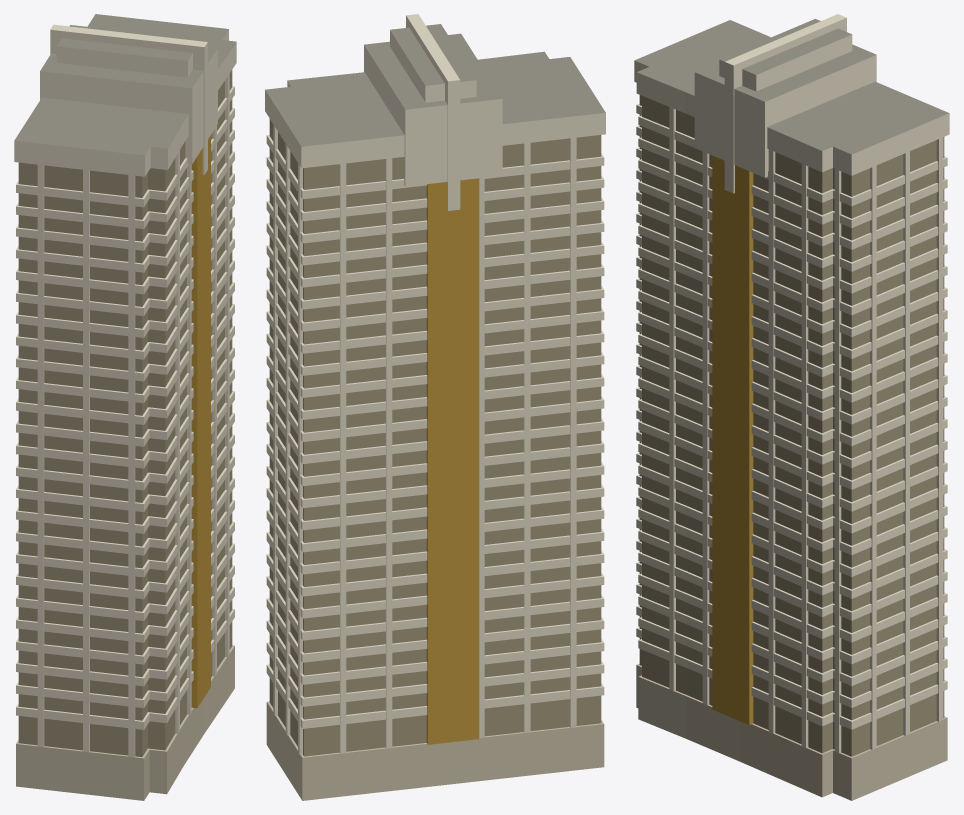
File: the_signature_at_mgm_g_w95223224.glb
3 views of the same model, side by side, from view 1: azimuth 30°, elevation 25°; view 2: azimuth 150°, elevation 25°; view 3: azimuth 270°, elevation 25° (orthographic).
Parts seen in each view (by area): view 1: Tower; view 2: Tower; view 3: Tower.
Part boxes in pixels (left/top/right/bottom): Tower: left=14, top=14, right=236, bottom=800; Tower: left=265, top=14, right=605, bottom=800; Tower: left=634, top=14, right=949, bottom=800.
Bounding box in the file's own units: 60.92 × 147 × 60.24.
